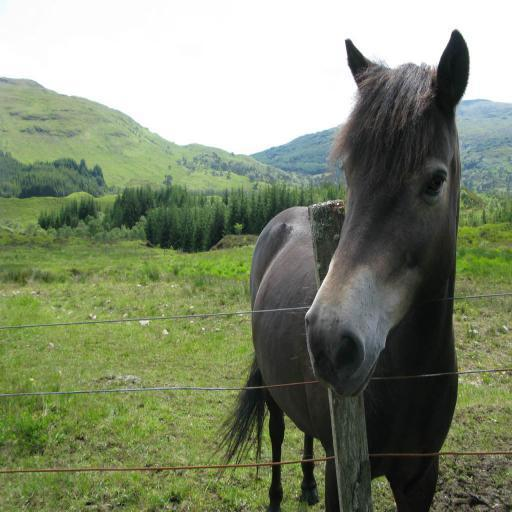horse: (232, 28, 472, 512)
